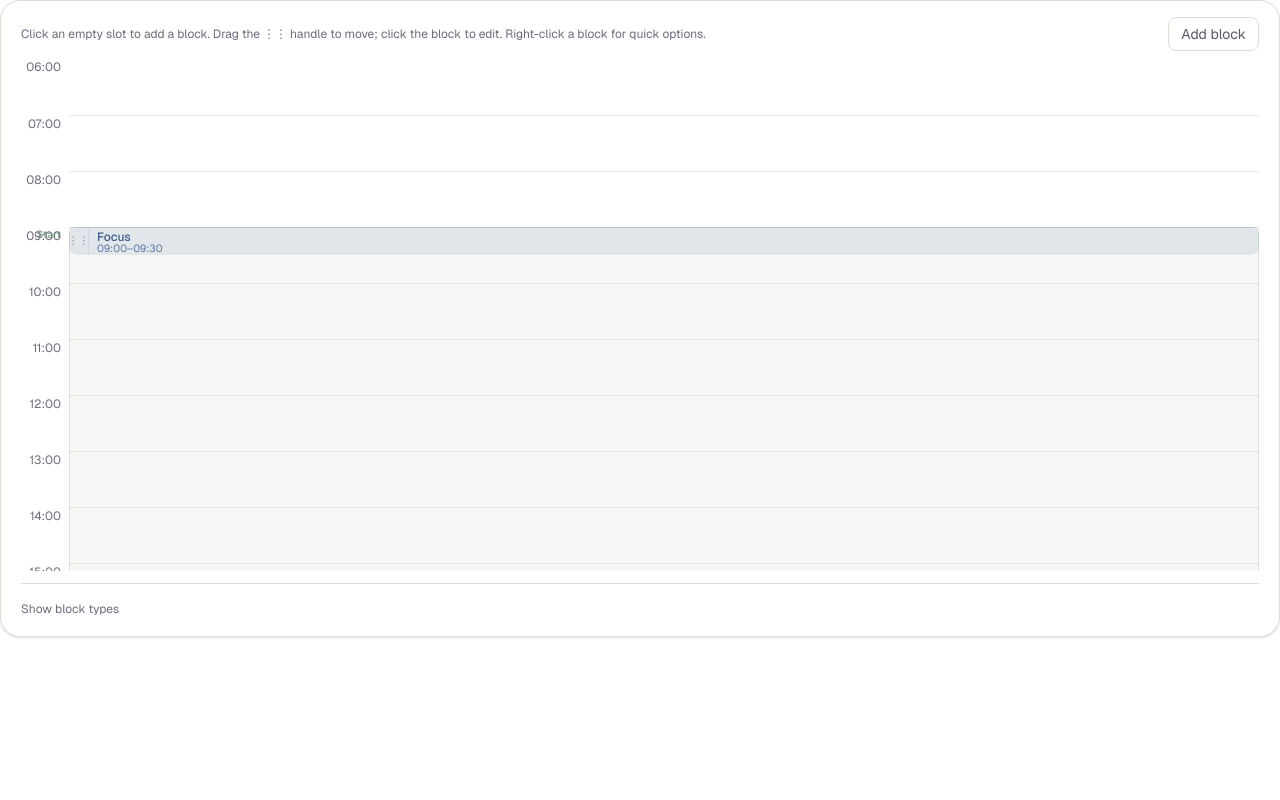
it: DayScheduleTimeline › opens a context menu on right-click when editing is enabled
Right-click the list item with test id "schedule-block-1" at coordinates (664, 241), box [69,227,1259,255]
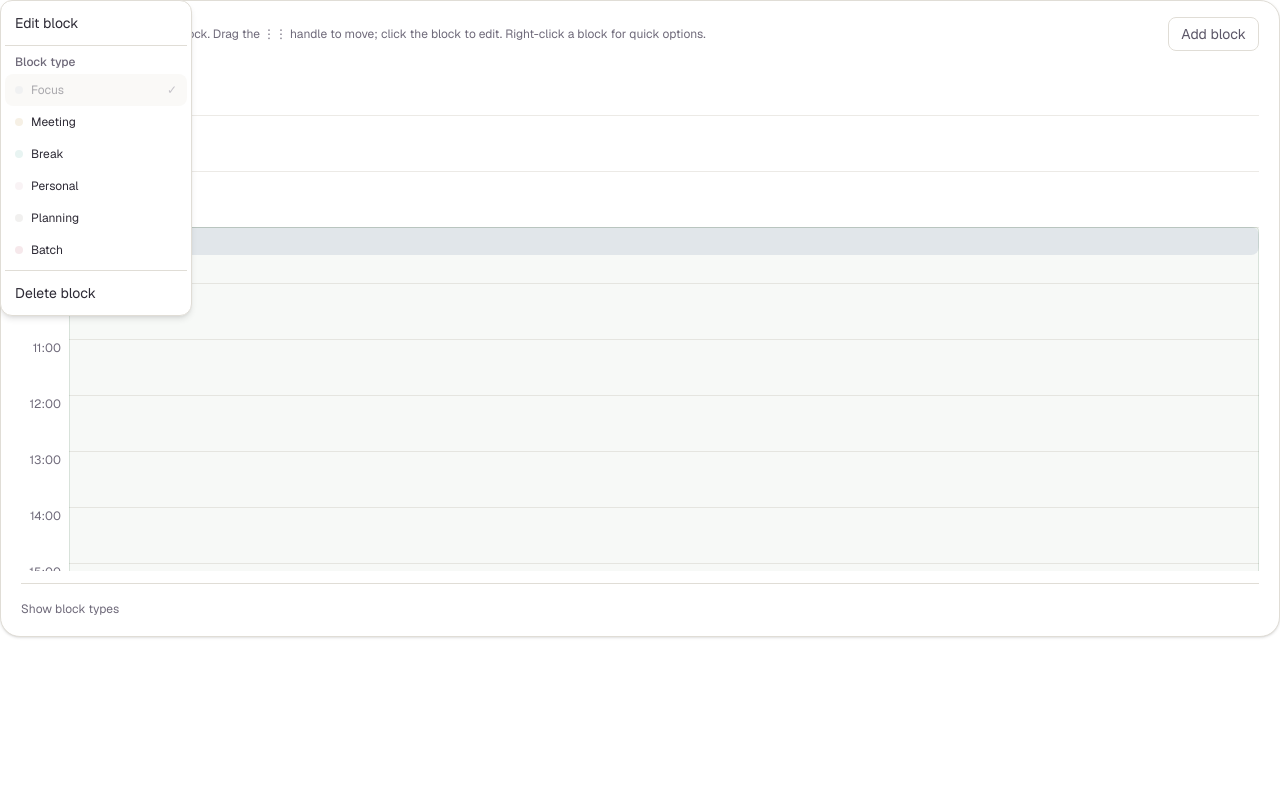
Now the menu with test id "schedule-block-context-menu" is shown, box [0,0,192,316]
Now the menu item with test id "schedule-context-edit" is shown, box [5,5,187,41]
